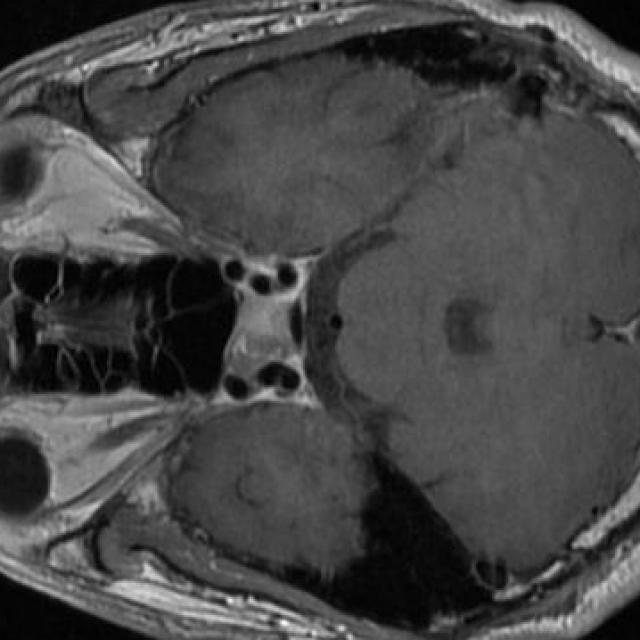pituitary: (223, 298, 296, 376)
